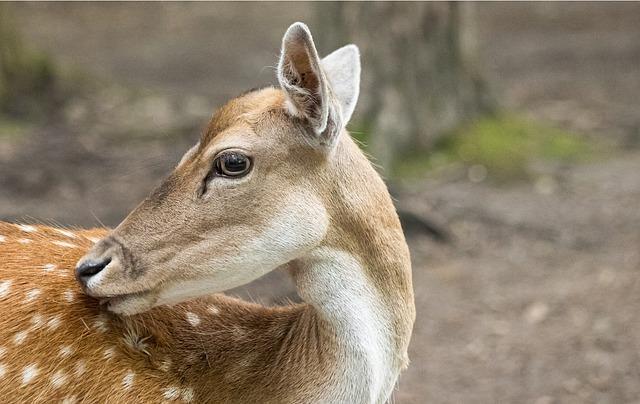Non_Gorille: (18, 29, 498, 398)
